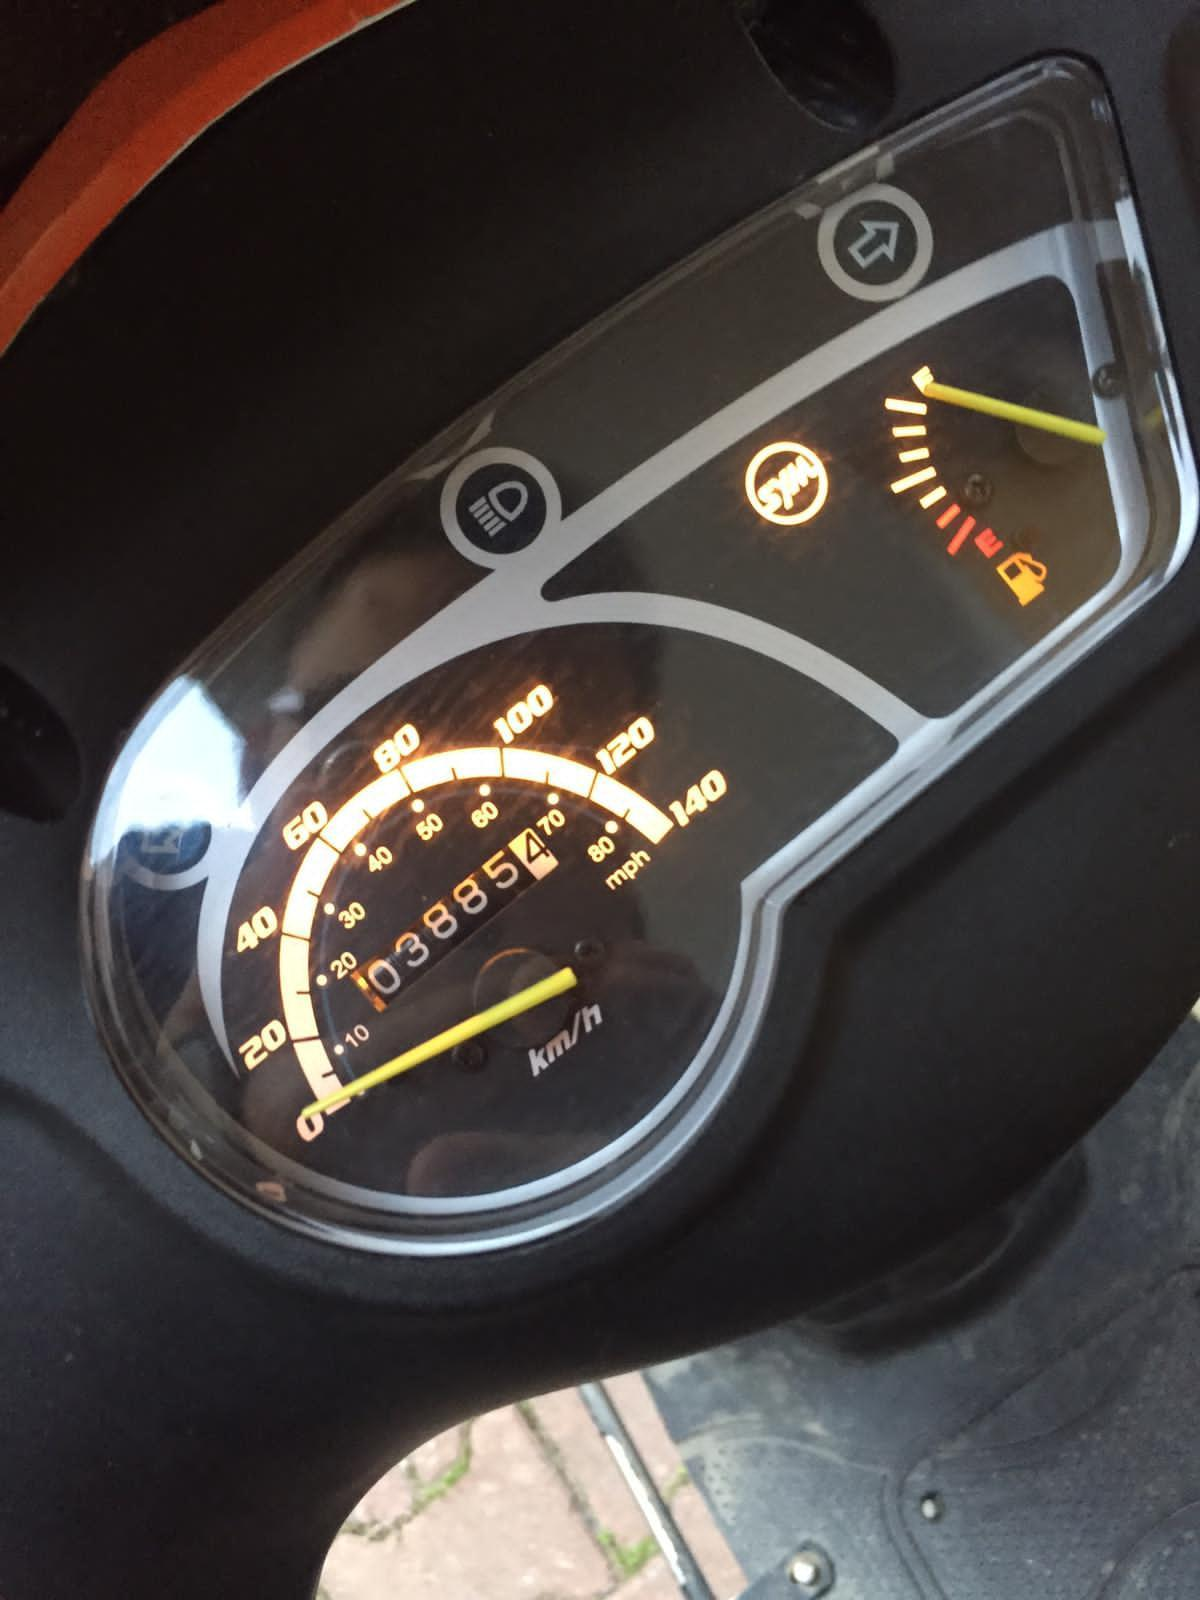0: (366, 957, 402, 997), (376, 845, 395, 866), (340, 950, 358, 970), (348, 901, 366, 920)
3: (395, 931, 431, 968), (337, 910, 355, 930)
4: (524, 831, 550, 863), (367, 853, 381, 873)
5: (480, 848, 521, 889), (415, 820, 434, 842)
7: (534, 815, 552, 837)
8: (422, 902, 459, 940), (453, 878, 489, 915)
odometer: (345, 825, 563, 1018)
